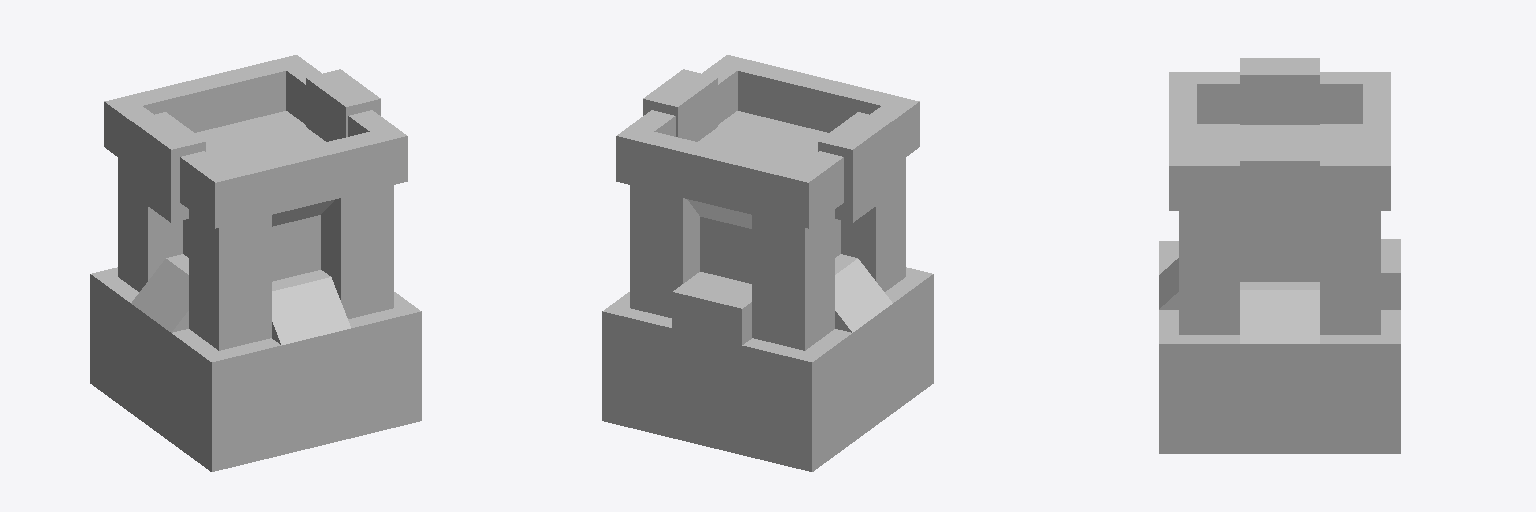
The model's file is crusher_no_rotor.obj.
3 views of the same model, side by side, from view 1: azimuth 30°, elevation 25°; view 2: azimuth 150°, elevation 25°; view 3: azimuth 270°, elevation 25° (orthographic).
Visible parts, largest first — view 1: base, basin2, body, io_right, io_left; view 2: base, basin2, body, io_right, io_left; view 3: base, basin2, body, io_left, io_right.
Boxes of the visible parts, x1=… form: base: x1=90, y1=254, x2=421, y2=471; basin2: x1=104, y1=55, x2=407, y2=228; body: x1=118, y1=158, x2=393, y2=350; io_right: x1=131, y1=112, x2=205, y2=222; io_left: x1=306, y1=69, x2=380, y2=141; base: x1=602, y1=254, x2=933, y2=471; basin2: x1=616, y1=55, x2=919, y2=228; body: x1=630, y1=158, x2=905, y2=350; io_right: x1=818, y1=112, x2=892, y2=222; io_left: x1=643, y1=69, x2=717, y2=141; base: x1=1159, y1=239, x2=1400, y2=453; basin2: x1=1169, y1=72, x2=1390, y2=210; body: x1=1179, y1=211, x2=1380, y2=334; io_left: x1=1240, y1=144, x2=1319, y2=233; io_right: x1=1240, y1=58, x2=1319, y2=124.
Bounding box in the file's own units: 3 × 4 × 3.